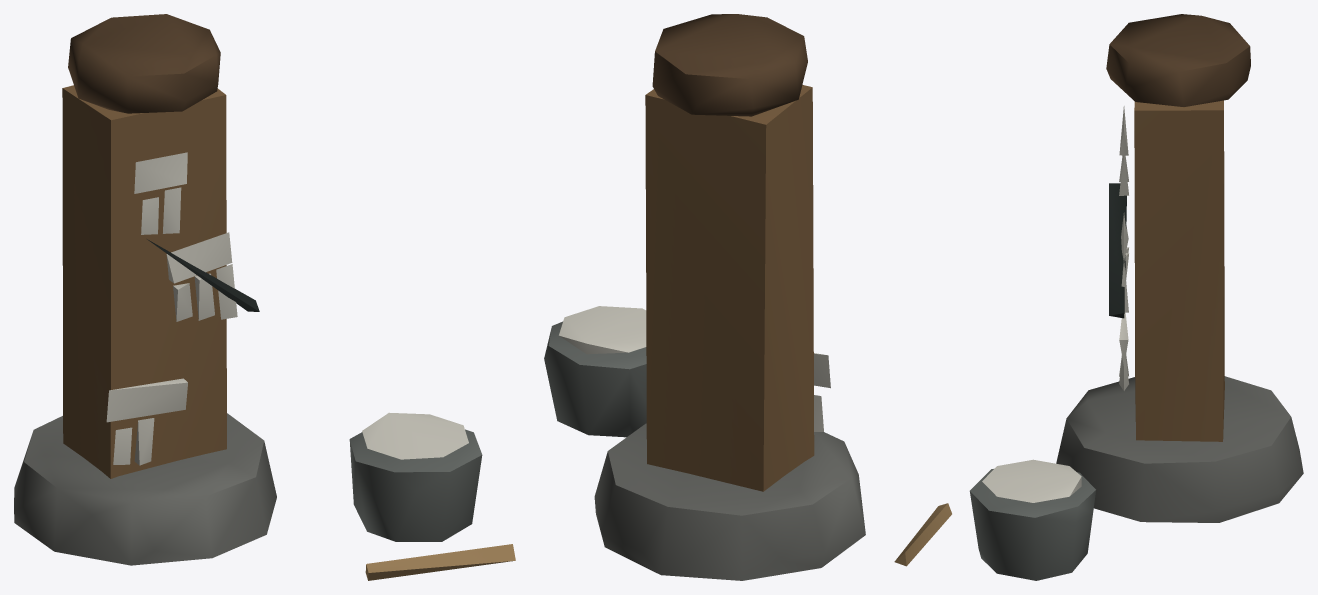
Rendered from milepost_a_lod2.glb.
The picture shows the model from 3 angles, left to right: view 1: azimuth 30°, elevation 25°; view 2: azimuth 150°, elevation 25°; view 3: azimuth 270°, elevation 25°; orthographic projection. The views are drawn at different scales.
Parts seen in each view (by area): view 1: Surface.001; view 2: Surface.001; view 3: Surface.001.
Part boxes in pixels (bbox=[...]): Surface.001: bbox=[14, 14, 515, 580]; Surface.001: bbox=[544, 14, 865, 580]; Surface.001: bbox=[894, 14, 1303, 580].
Size of the model in its own units: 1.32 by 1.66 by 1.4.
